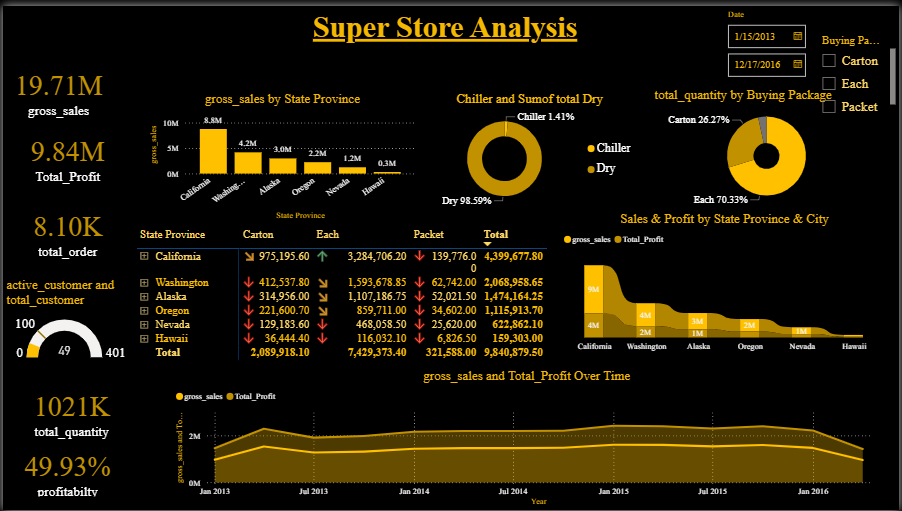

The page's visual inventory and layout, read from the dashboard file:
{"tool":"powerbi","page":{"name":"Super Store","canvas":[1280,720],"ordinal":0},"visuals":[{"type":"card","fields":{"Values":["Table_meagure.total_order"]},"box":[0,275.4,185,94],"z":0},{"type":"card","fields":{"Values":["Table_meagure.Total_Profit"]},"box":[0,168.5,185,94],"z":1000},{"type":"gauge","fields":{"Y":["Table_meagure.active_customer"],"MaxValue":["Table_meagure.total_customer"]},"box":[0,387.7,194.6,124.6],"z":2000},{"type":"card","fields":{"Values":["Table_meagure.total_quantity"]},"box":[5.4,532.3,185,94],"z":3000},{"type":"card","fields":{"Values":["Table_meagure.profitabilty"]},"box":[0,626,185,80],"z":4000},{"type":"stackedAreaChart","title":"gross_sales and Total_Profit Over  Time","fields":{"Category":["DimDate.Date.Variation.Date Hierarchy.Year","DimDate.Date.Variation.Date Hierarchy.Quarter","DimDate.Date.Variation.Date Hierarchy.Month","DimDate.Date.Variation.Date Hierarchy.Day"],"Y":["Table_meagure.gross_sales","Table_meagure.Total_Profit"]},"box":[241.2,517.5,1013.8,202.5],"z":5000},{"type":"columnChart","fields":{"Category":["DimCity.State Province"],"Y":["Table_meagure.gross_sales"]},"box":[203.8,121.2,390,190],"z":6000},{"type":"donutChart","title":"Chiller and Sumof total Dry","fields":{"Y":["Sum(FactSale.Total Chiller Items)","Sum(FactSale.Total Dry Items)"]},"box":[593.8,121.2,316.2,172.5],"z":7000},{"type":"donutChart","fields":{"Category":["DimStockItem.Buying Package"],"Y":["Table_meagure.total_quantity"]},"box":[925,116.2,330,176.2],"z":8000},{"type":"pivotTable","fields":{"Rows":["DimCity.State Province","DimCity.City"],"Values":["Table_meagure.Total_Profit"],"Columns":["DimStockItem.Buying Package"]},"box":[185,311.2,631.2,206.2],"z":9000},{"type":"card","fields":{"Values":["Table_meagure.gross_sales"]},"box":[0,74.4,158.9,94.4],"z":10000},{"type":"ribbonChart","title":"Sales & Profit by State Province & City","fields":{"Category":["DimCity.City","DimCity.State Province"],"Y":["Table_meagure.gross_sales","Table_meagure.Total_Profit"]},"box":[795,292.5,470,208.8],"z":11000},{"type":"slicer","fields":{"Values":["DimDate.Date"]},"box":[1022.2,0,134.4,107.8],"z":12000},{"type":"slicer","fields":{"Values":["DimStockItem.Buying Package"]},"box":[1156.7,35,123.3,121.7],"z":13000},{"type":"textbox","box":[327.5,0,608.8,70],"z":14000}]}

Visuals, with their boxes in screenshot pixels (x1, y1, x2, y2), scaled from the page's 1280x720 canvas onto the 902x511 screenshot:
card - Table_meagure.total_order: detection(0, 195, 130, 262)
card - Table_meagure.Total_Profit: detection(0, 120, 130, 186)
gauge - Table_meagure.active_customer x Table_meagure.total_customer: detection(0, 275, 137, 364)
card - Table_meagure.total_quantity: detection(4, 378, 134, 444)
card - Table_meagure.profitabilty: detection(0, 444, 130, 501)
"gross_sales and Total_Profit Over  Time" stackedAreaChart: detection(170, 367, 884, 510)
columnChart - DimCity.State Province x Table_meagure.gross_sales: detection(144, 86, 418, 221)
"Chiller and Sumof total Dry" donutChart: detection(418, 86, 641, 208)
donutChart - DimStockItem.Buying Package x Table_meagure.total_quantity: detection(652, 82, 884, 208)
pivotTable - DimCity.State Province x DimCity.City: detection(130, 221, 575, 367)
card - Table_meagure.gross_sales: detection(0, 53, 112, 120)
"Sales & Profit by State Province & City" ribbonChart: detection(560, 208, 891, 356)
slicer - DimDate.Date: detection(720, 0, 815, 77)
slicer - DimStockItem.Buying Package: detection(815, 25, 901, 111)
textbox: detection(231, 0, 660, 50)
